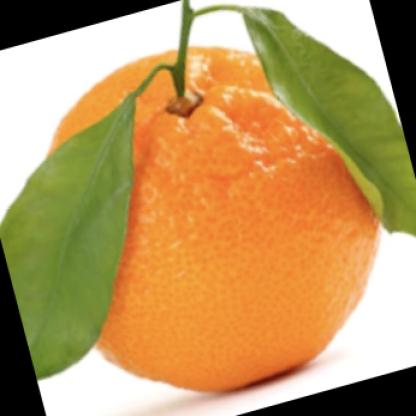fresh: (47, 47, 379, 392)
